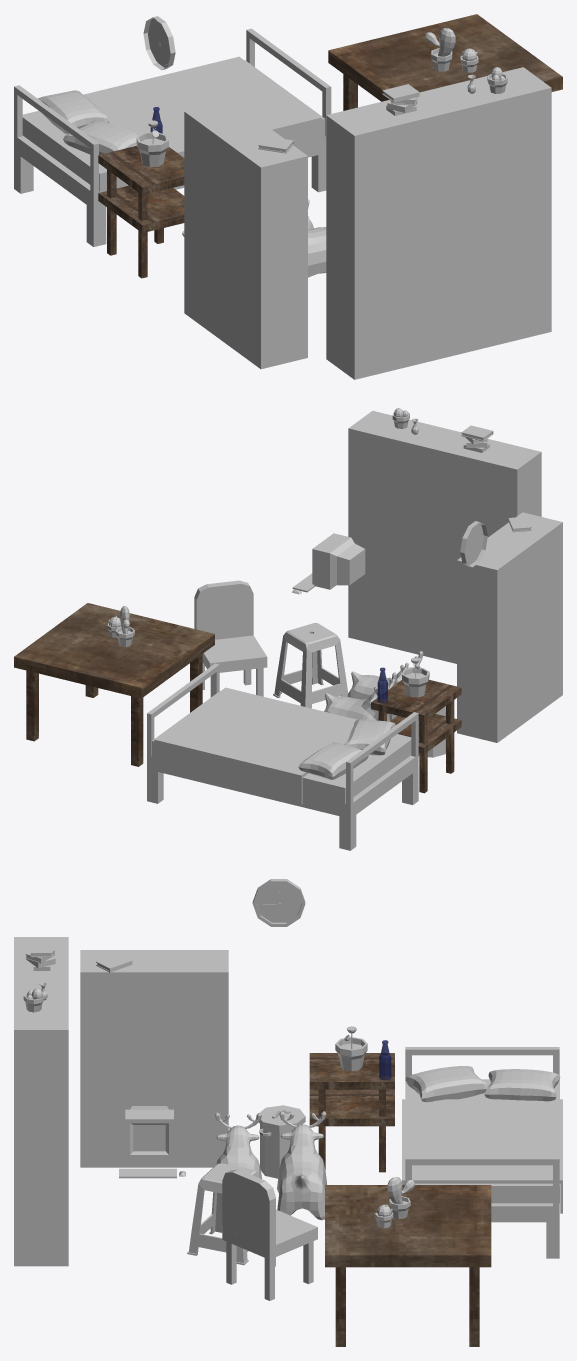
File: 房间物品.obj
3 views of the same model, one above another, from view 1: azimuth 30°, elevation 25°; view 2: azimuth 150°, elevation 25°; view 3: azimuth 270°, elevation 25° (orthographic). The views are drawn at different scales.
Visible parts, largest first — view 1: 立方体.153, 立方体.160, 立方体.150, 立方体.021, 立方体.151, 立方体.154, 立方体.158, 立方体.152, 立方体.157, 柱体.123, 柱体.121, 柱体.127 (+4 smaller); view 2: 立方体.153, 立方体.160, 立方体.150, 立方体.021, 立方体.151, 立方体.169, 立方体.154, 立方体.168, 立方体.158, 立方体.172, 立方体.152, 柱体.128 (+6 smaller); view 3: 立方体.160, 立方体.153, 立方体.021, 立方体.150, 立方体.169, 立方体.154, 立方体.151, 柱体.128, 立方体.172, 立方体.168, 立方体.157, 立方体.152 (+10 smaller).
Boxes of the visible parts, bbox=[...] form: 立方体.153: bbox=[326, 67, 551, 379]; 立方体.160: bbox=[184, 100, 307, 369]; 立方体.150: bbox=[83, 56, 322, 187]; 立方体.021: bbox=[328, 14, 562, 101]; 立方体.151: bbox=[14, 28, 331, 246]; 立方体.154: bbox=[98, 146, 184, 278]; 立方体.158: bbox=[22, 60, 325, 191]; 立方体.152: bbox=[38, 90, 109, 133]; 立方体.157: bbox=[63, 120, 139, 154]; 柱体.123: bbox=[143, 16, 175, 70]; 柱体.121: bbox=[136, 132, 168, 167]; 柱体.127: bbox=[308, 227, 326, 277]; 立方体.153: bbox=[348, 410, 541, 663]; 立方体.160: bbox=[457, 512, 562, 742]; 立方体.150: bbox=[154, 687, 357, 804]; 立方体.021: bbox=[14, 603, 214, 698]; 立方体.151: bbox=[147, 663, 418, 850]; 立方体.169: bbox=[194, 580, 267, 697]; 立方体.154: bbox=[371, 679, 461, 793]; 立方体.168: bbox=[273, 623, 348, 708]; 立方体.158: bbox=[152, 691, 411, 803]; 立方体.172: bbox=[312, 533, 365, 589]; 立方体.152: bbox=[298, 742, 368, 779]; 柱体.128: bbox=[324, 672, 396, 721]; 立方体.160: bbox=[80, 950, 228, 1167]; 立方体.153: bbox=[14, 937, 68, 1266]; 立方体.021: bbox=[325, 1185, 491, 1267]; 立方体.150: bbox=[402, 1099, 562, 1213]; 立方体.169: bbox=[222, 1169, 317, 1300]; 立方体.154: bbox=[309, 1053, 394, 1172]; 立方体.151: bbox=[405, 1047, 559, 1258]; 柱体.128: bbox=[277, 1111, 326, 1220]; 立方体.172: bbox=[125, 1106, 173, 1161]; 立方体.168: bbox=[187, 1163, 260, 1265]; 立方体.157: bbox=[405, 1066, 488, 1102]; 立方体.152: bbox=[484, 1069, 560, 1101].
Size of the model in its own units: 1.39 by 0.857 by 1.59.
